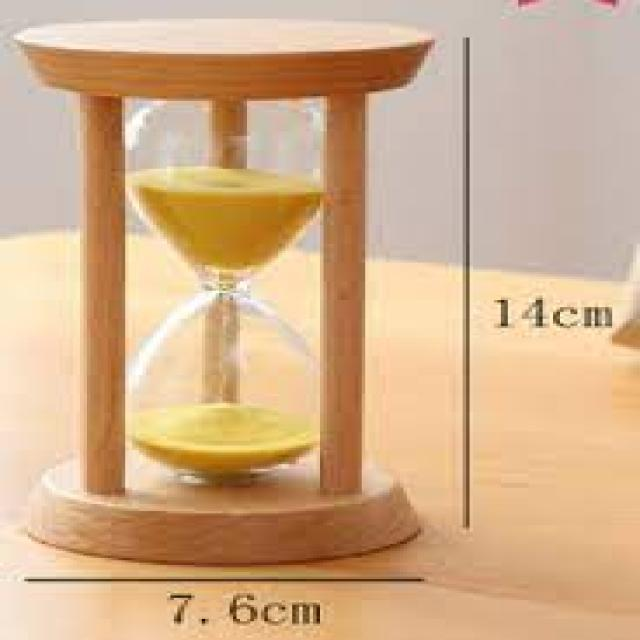clock: (13, 15, 454, 558)
